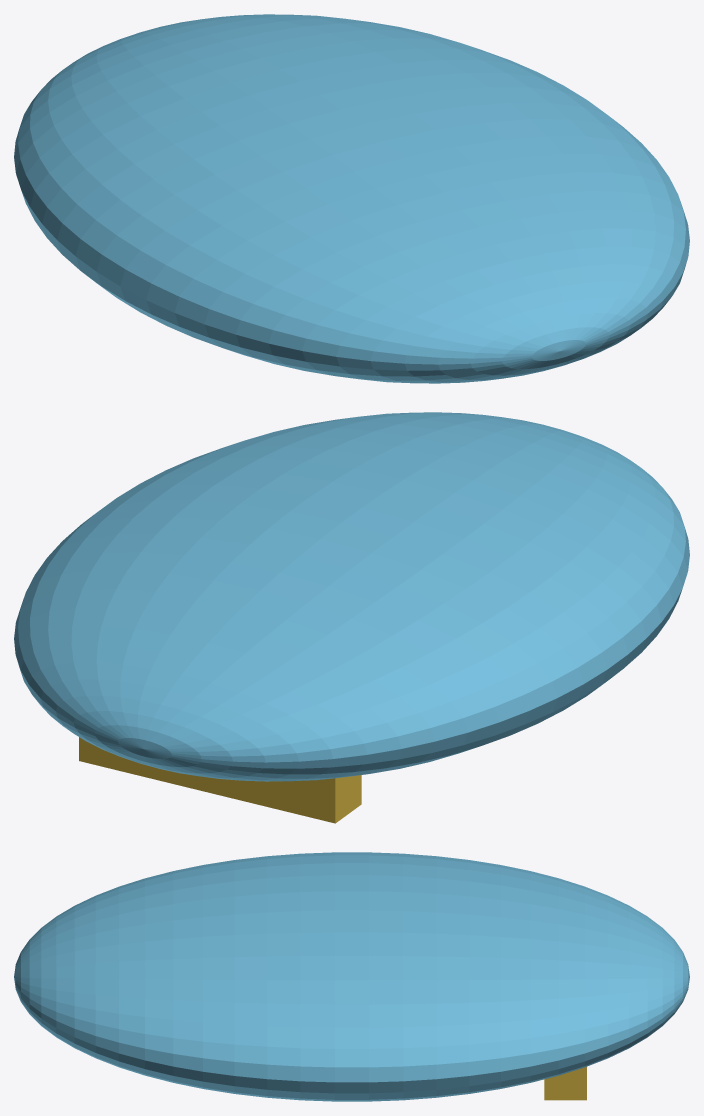
Rendered from powerup_diamond_hands_shield.glb.
The picture shows the model from 3 angles, top to bottom: view 1: azimuth 30°, elevation 25°; view 2: azimuth 150°, elevation 25°; view 3: azimuth 270°, elevation 25°; orthographic projection. The views are drawn at different scales.
Visible parts, largest first — view 1: shield_outer; view 2: shield_outer, base; view 3: shield_outer, base.
Boxes of the visible parts, bbox=[...] form: shield_outer: bbox=[14, 14, 689, 383]; shield_outer: bbox=[14, 412, 689, 781]; base: bbox=[79, 737, 361, 823]; shield_outer: bbox=[14, 852, 689, 1101]; base: bbox=[544, 1066, 586, 1100].
Size of the model in its own units: 0.9338 by 0.2873 by 1.27.
